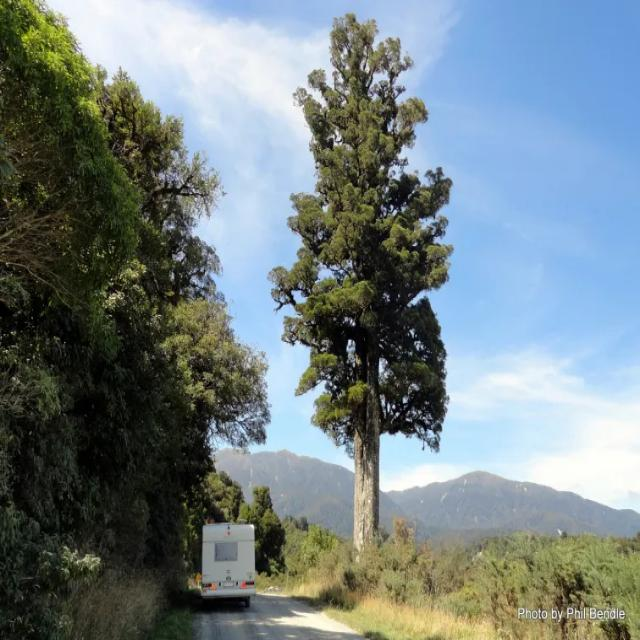Kahikatea: (266, 13, 454, 556)
